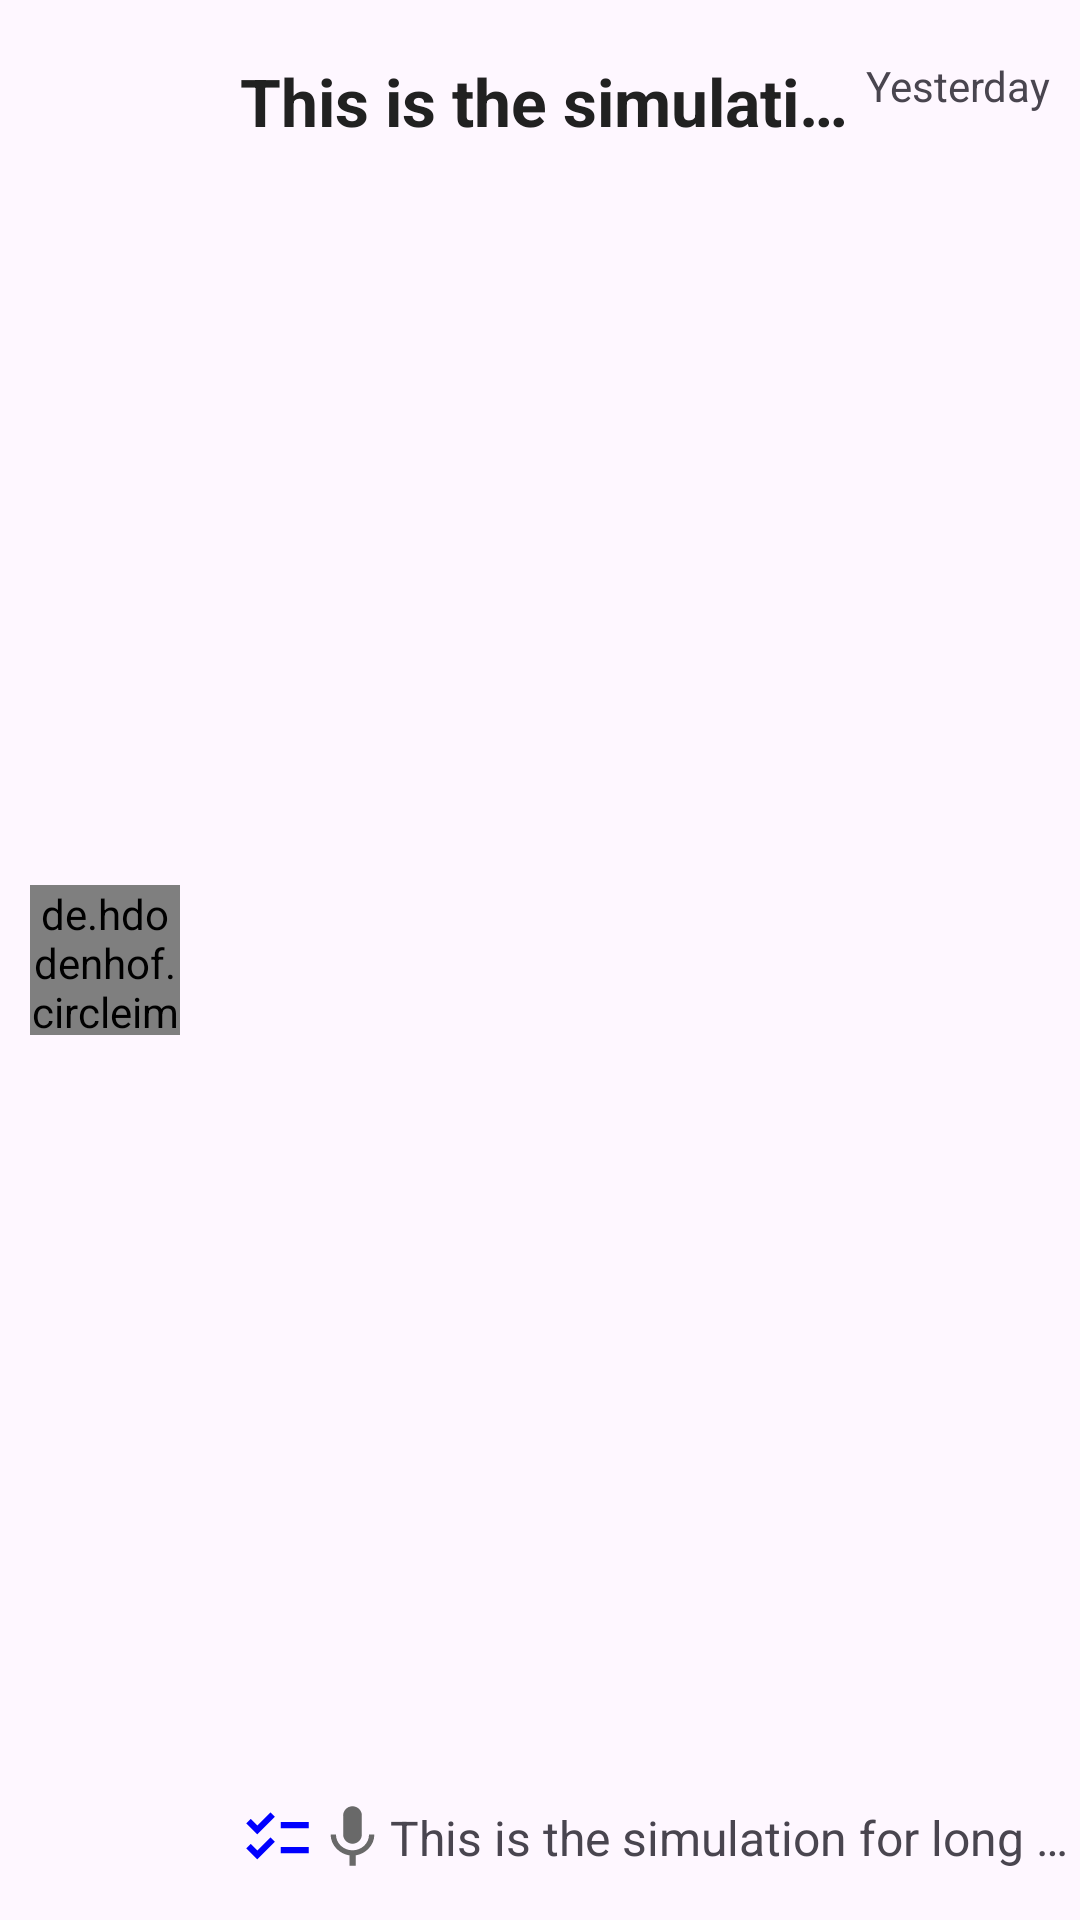

Icons on this 1080px x 1920px Android screen, each with the point to tap as (x,y):
last message audio: (352,1836)
